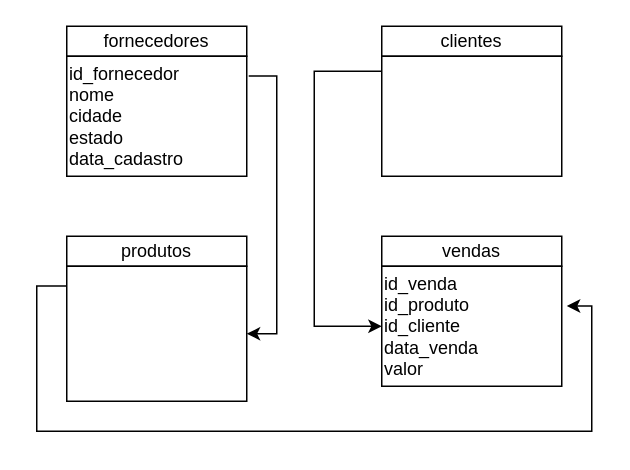
The diagram is 630 pixels wide and 470 high, and some of its shapes have lost their labels. Each missing label, with the centre of its shape:
id_cliente nome cidade estado data_cadastro: point 471,115
id_produto nome id_fornecedor data_cadastro qtde valor: point 156,333
